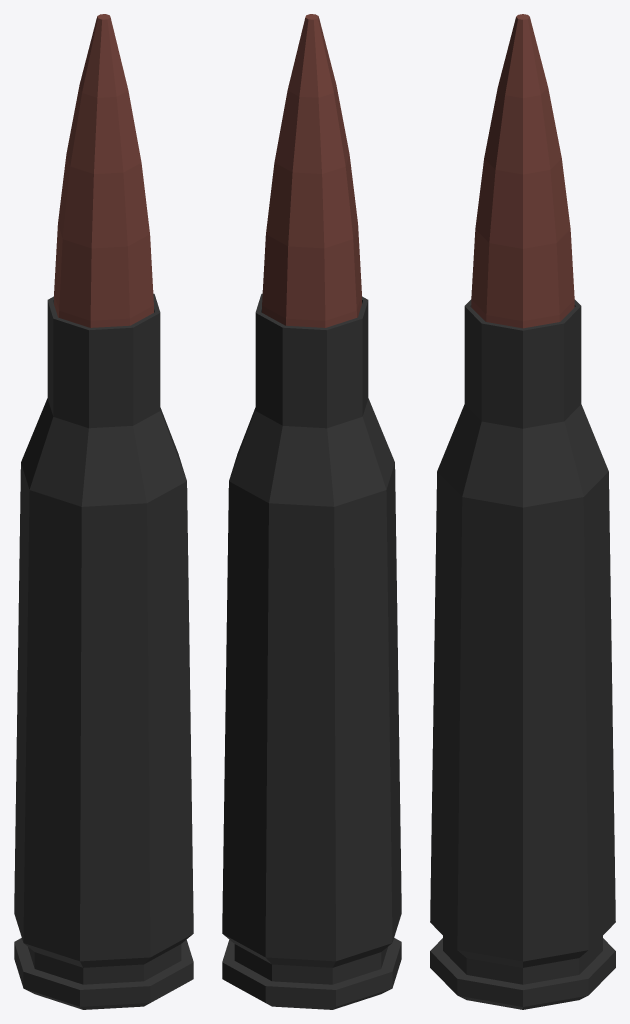
3 views of the same model, side by side, from view 1: azimuth 30°, elevation 25°; view 2: azimuth 150°, elevation 25°; view 3: azimuth 270°, elevation 25° (orthographic).
Parts seen in each view (by area): view 1: 5.45x39; view 2: 5.45x39; view 3: 5.45x39.
Boxes of the visible parts, bbox=[...] form: 5.45x39: bbox=[14, 14, 193, 1009]; 5.45x39: bbox=[222, 14, 401, 1009]; 5.45x39: bbox=[430, 14, 615, 1009].
Size of the model in its own units: 0.01 by 0.057 by 0.01.
1 material, 1 textured.
